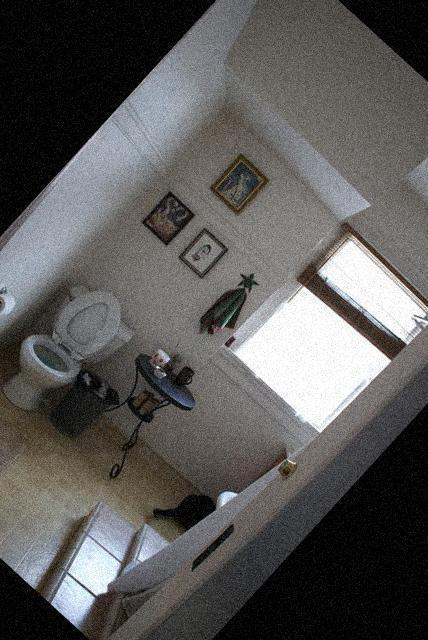Bote de Basura: (42, 357, 129, 445)
Sanitario: (0, 270, 144, 438)
